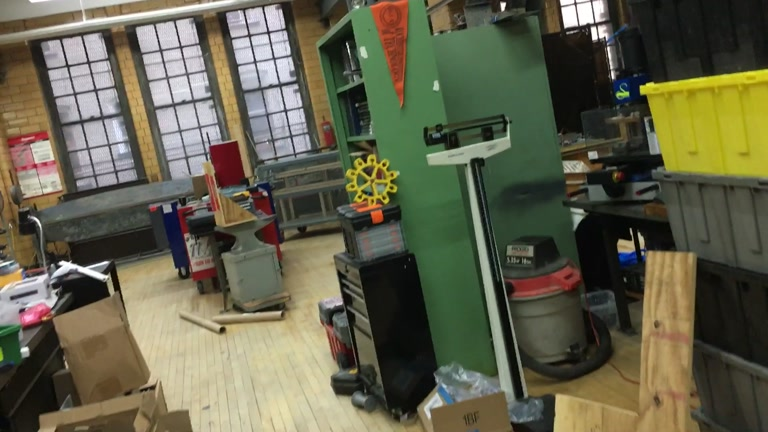gear: (344, 152, 396, 209)
